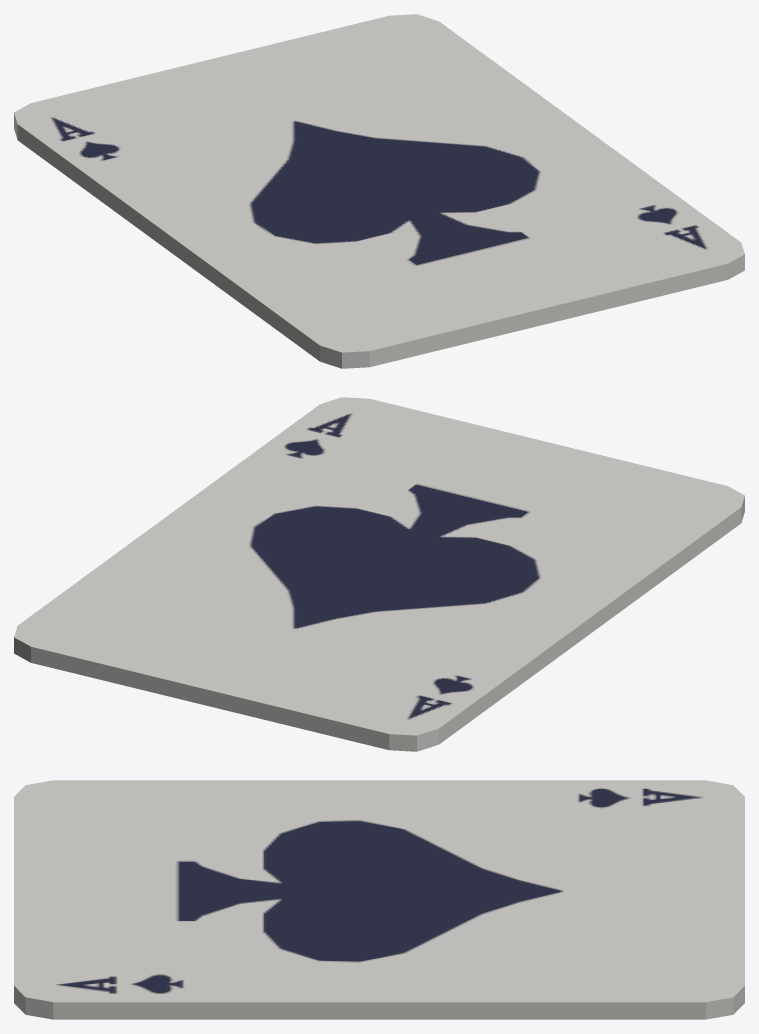
The model's file is SM_Item_Playing_Card_01_Ace.fbx.
The picture shows the model from 3 angles, top to bottom: view 1: azimuth 30°, elevation 25°; view 2: azimuth 150°, elevation 25°; view 3: azimuth 270°, elevation 25°; orthographic projection. The views are drawn at different scales.
Parts seen in each view (by area): view 1: SM_Item_Playing_Card_01_Ace; view 2: SM_Item_Playing_Card_01_Ace; view 3: SM_Item_Playing_Card_01_Ace.
Boxes of the visible parts, x1,y1,x2,y2 form: SM_Item_Playing_Card_01_Ace: (14, 14, 744, 368); SM_Item_Playing_Card_01_Ace: (14, 397, 744, 751); SM_Item_Playing_Card_01_Ace: (14, 780, 744, 1019).
Size of the model in its own units: 11.67 by 0.4281 by 16.24.
